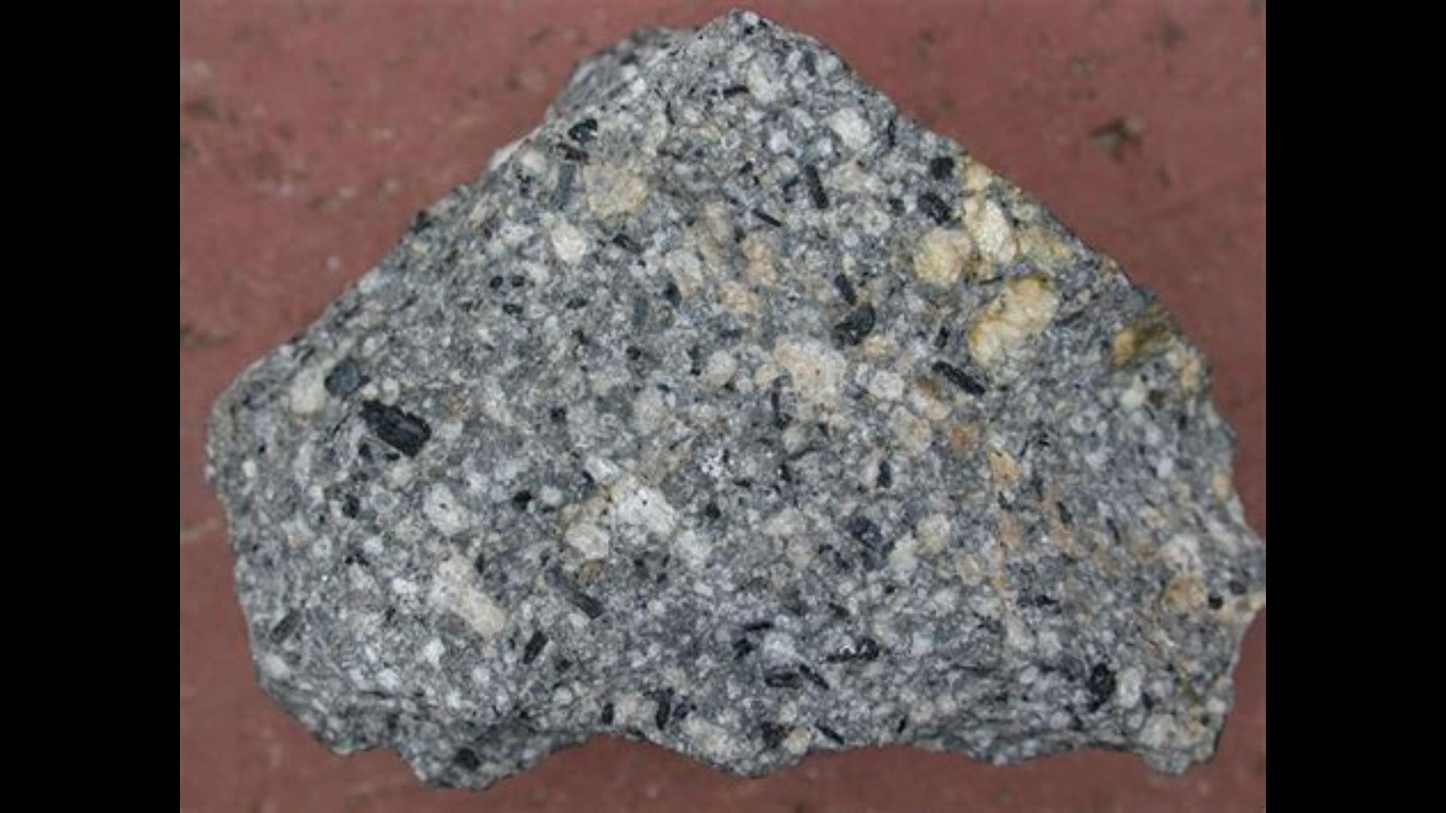rock: (212, 11, 1264, 781)
